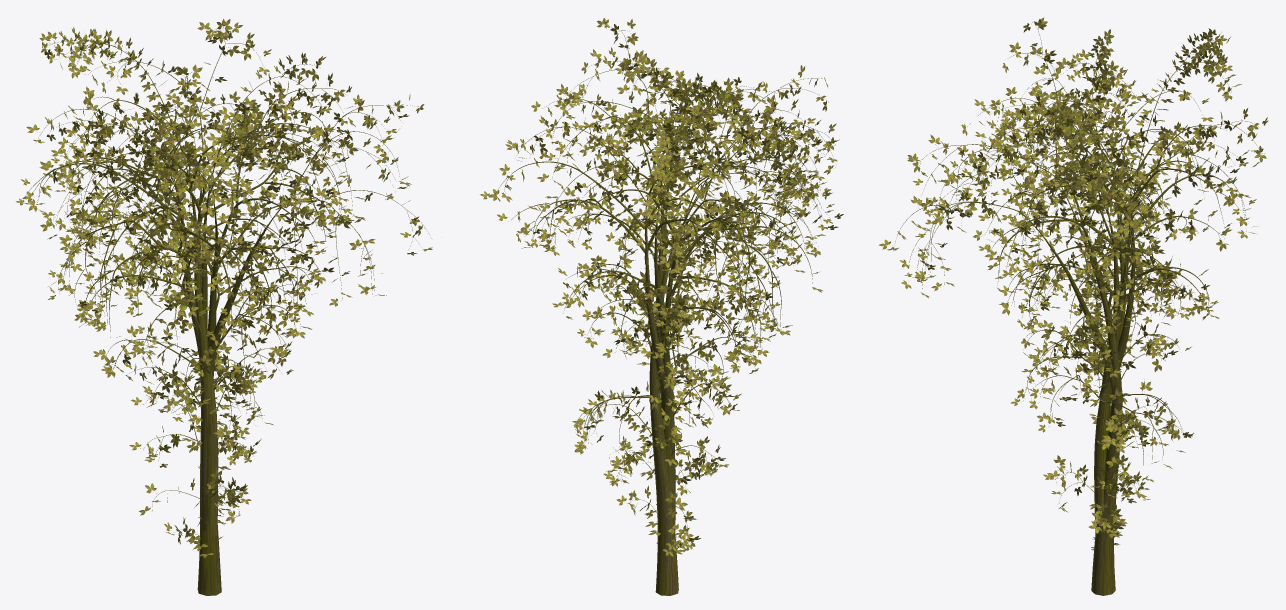
The model's file is Amazonie_Arbre_24.fbx.
The picture shows the model from 3 angles, left to right: view 1: azimuth 30°, elevation 25°; view 2: azimuth 150°, elevation 25°; view 3: azimuth 270°, elevation 25°; orthographic projection. The views are drawn at different scales.
Parts seen in each view (by area): view 1: Plane.001, tree; view 2: Plane.001, tree; view 3: Plane.001, tree.
Part boxes in pixels (x1=…): Plane.001: x1=16, y1=19, x2=432, y2=558; tree: x1=24, y1=27, x2=431, y2=595; Plane.001: x1=480, y1=18, x2=843, y2=556; tree: x1=495, y1=27, x2=835, y2=595; Plane.001: x1=879, y1=17, x2=1268, y2=550; tree: x1=895, y1=25, x2=1262, y2=595.
Size of the model in its own units: 1080 by 1695 by 1157.
